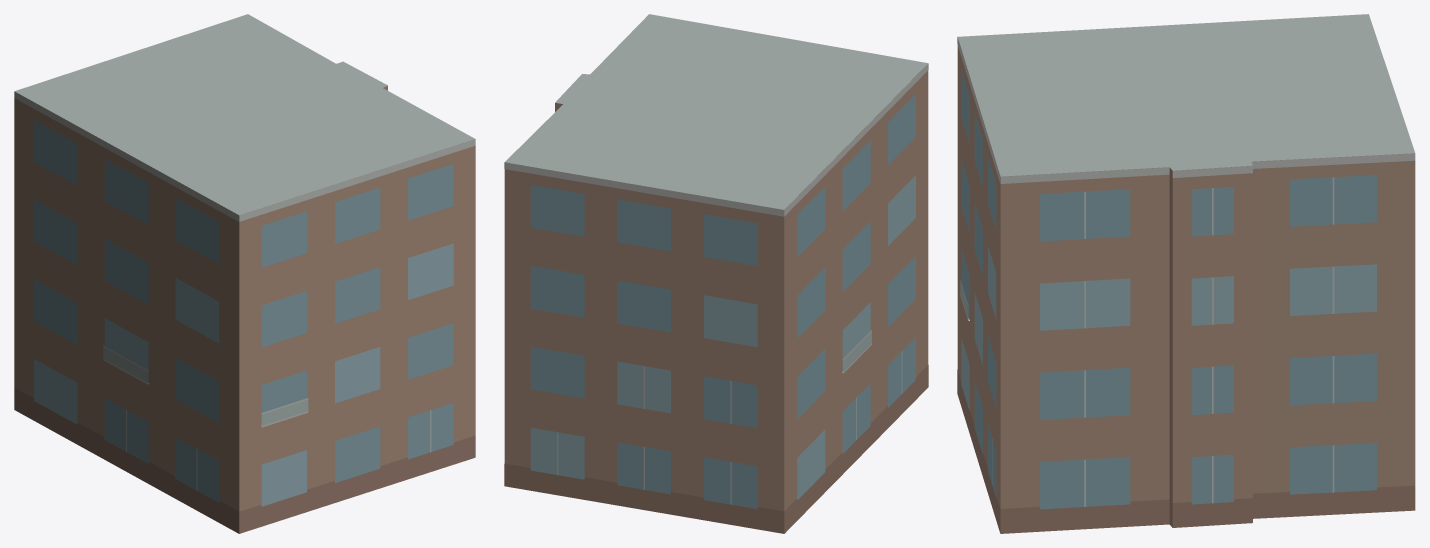
File: survey-upis-32531890.glb
The picture shows the model from 3 angles, left to right: view 1: azimuth 30°, elevation 25°; view 2: azimuth 150°, elevation 25°; view 3: azimuth 270°, elevation 25°; orthographic projection. The views are drawn at different scales.
Visible parts, largest first — view 1: survey-upis-32531890.tmp; view 2: survey-upis-32531890.tmp; view 3: survey-upis-32531890.tmp.
Part boxes in pixels (left/top/right/bottom): survey-upis-32531890.tmp: left=14, top=14, right=475, bottom=533; survey-upis-32531890.tmp: left=504, top=14, right=928, bottom=533; survey-upis-32531890.tmp: left=957, top=14, right=1415, bottom=533.
Size of the model in its own units: 11.43 by 11.7 by 13.6.
